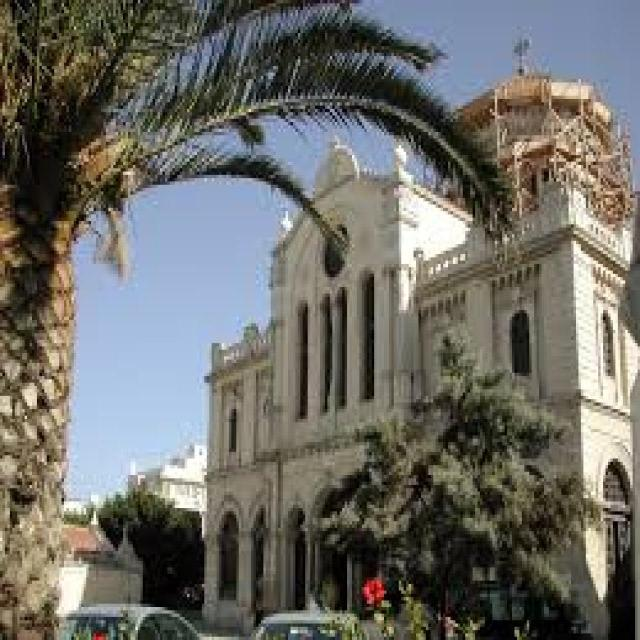Agios Minas: (201, 37, 640, 640)
